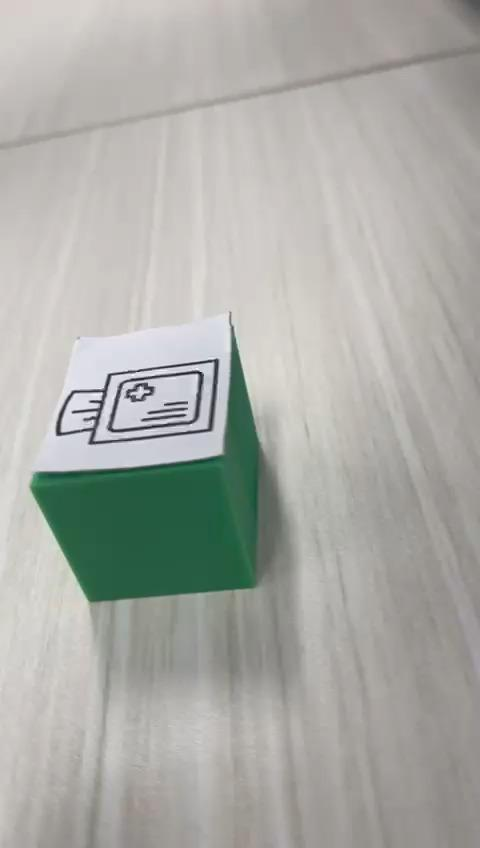Gauze: (28, 310, 261, 603)
